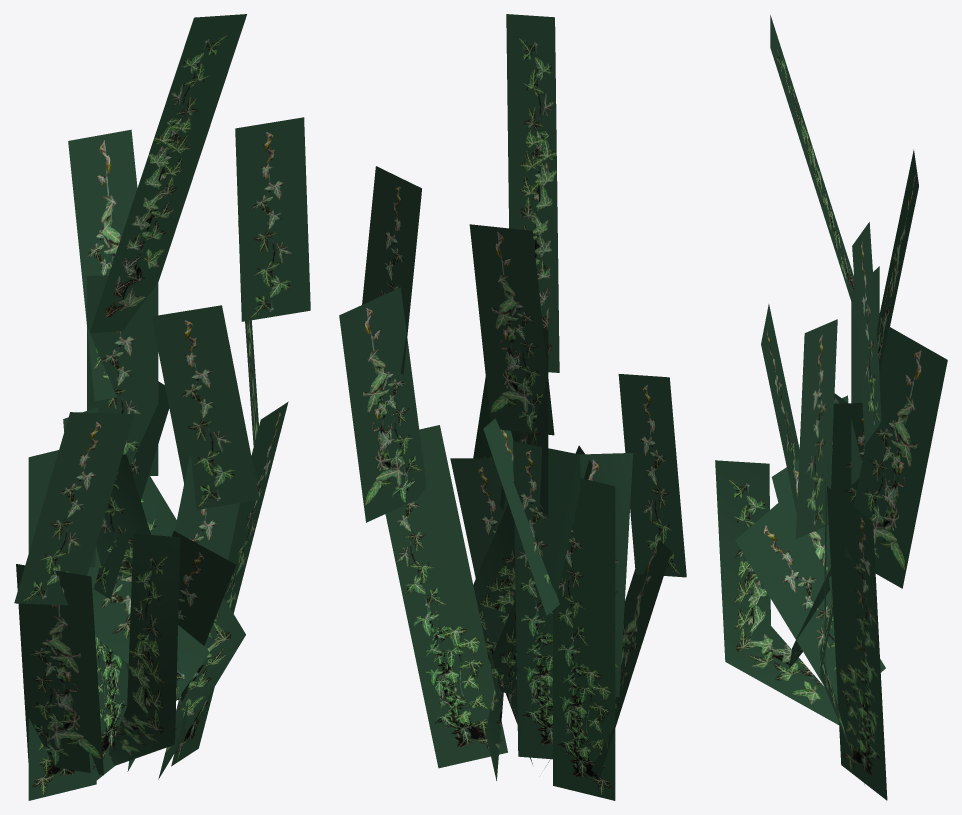
Rendered from ivy09_lod1.fbx.
3 views of the same model, side by side, from view 1: azimuth 30°, elevation 25°; view 2: azimuth 150°, elevation 25°; view 3: azimuth 270°, elevation 25° (orthographic). The views are drawn at different scales.
Visible parts, largest first — view 1: Mesh Object; view 2: Mesh Object; view 3: Mesh Object.
Boxes of the visible parts, x1,y1,x2,y2 form: Mesh Object: [14, 14, 310, 800]; Mesh Object: [339, 14, 686, 800]; Mesh Object: [715, 15, 947, 800].
Size of the model in its own units: 0.6964 by 1.63 by 0.4477.
